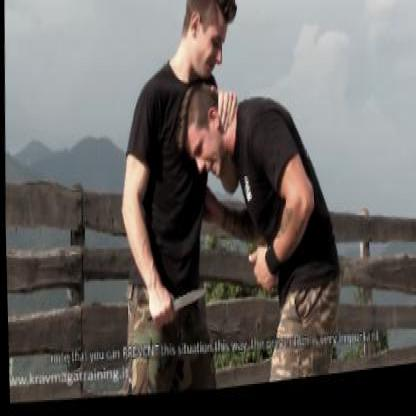knife: (141, 280, 207, 337)
